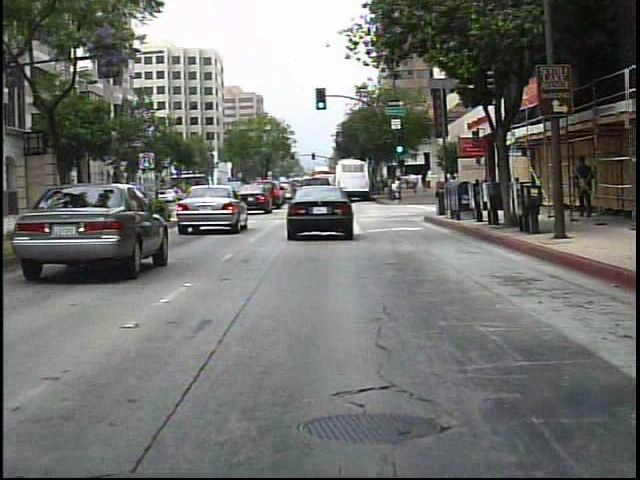person: (569, 153, 597, 221)
